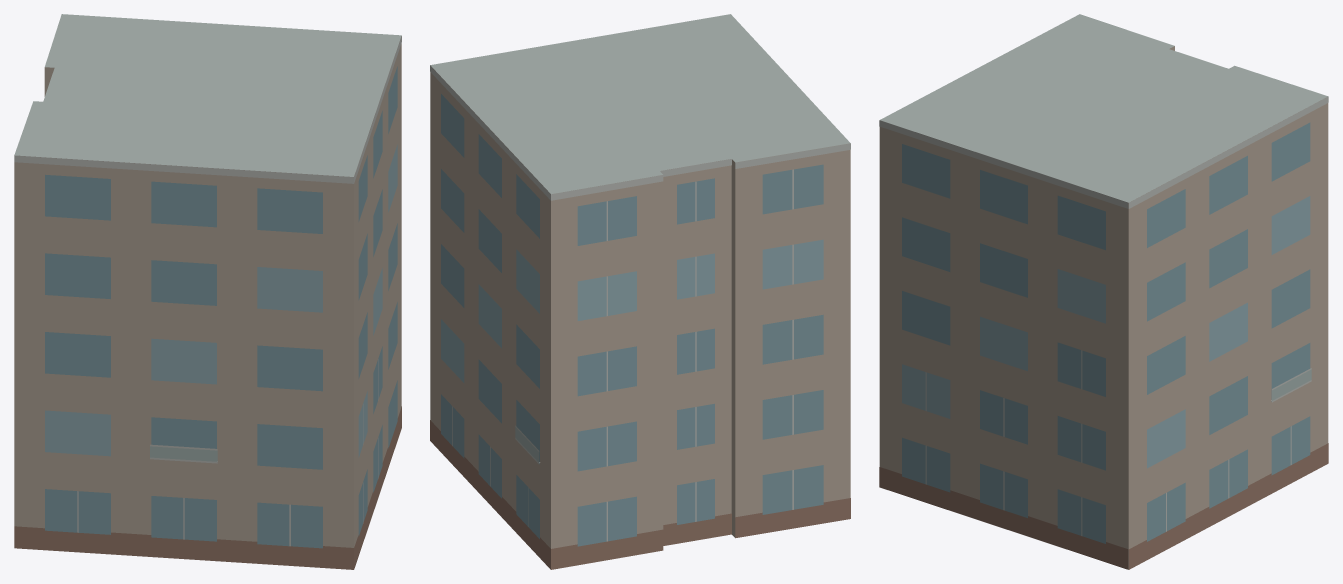
File: survey-upis-32749504.glb
3 views of the same model, side by side, from view 1: azimuth 30°, elevation 25°; view 2: azimuth 150°, elevation 25°; view 3: azimuth 270°, elevation 25° (orthographic). The views are drawn at different scales.
Parts seen in each view (by area): view 1: survey-upis-32749504.tmp; view 2: survey-upis-32749504.tmp; view 3: survey-upis-32749504.tmp.
Boxes of the visible parts, x1=… form: survey-upis-32749504.tmp: x1=14, y1=14, x2=401, y2=569; survey-upis-32749504.tmp: x1=430, y1=14, x2=850, y2=569; survey-upis-32749504.tmp: x1=879, y1=14, x2=1328, y2=569.
Bounding box in the file's own units: 15.44 × 14 × 15.52.
